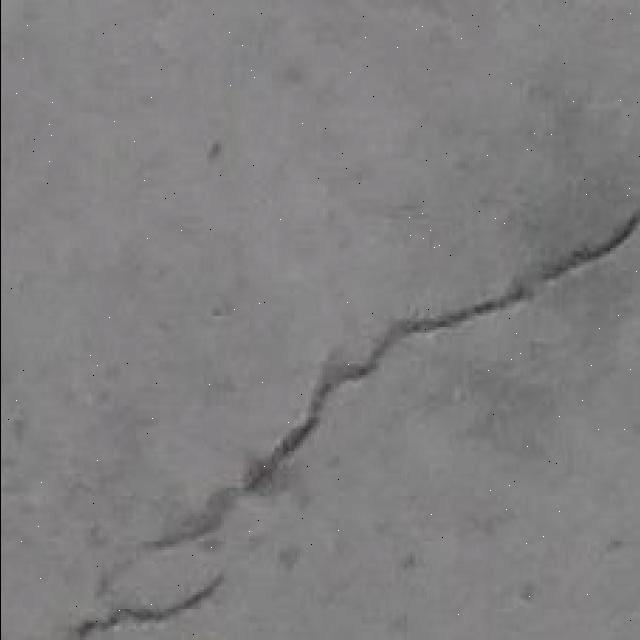crack: (72, 201, 638, 635), (379, 188, 630, 357), (75, 459, 306, 635)
